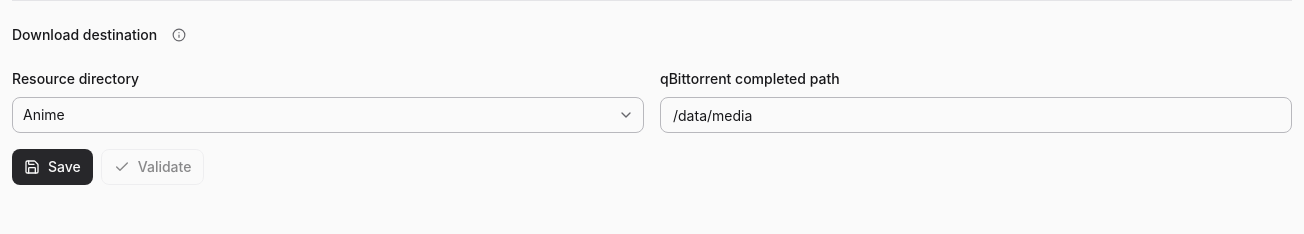
Scenario: destination settings separate saving from validation and do not start downloads
The width and height of the screenshot is (1304, 234).
Expected: the field labelled "qBittorrent completed path" holds "/data/media", left=660, top=97, right=1292, bottom=133
Click the button with aria-label "Save destination". click: (52, 167)
box: left=12, top=149, right=93, bottom=185
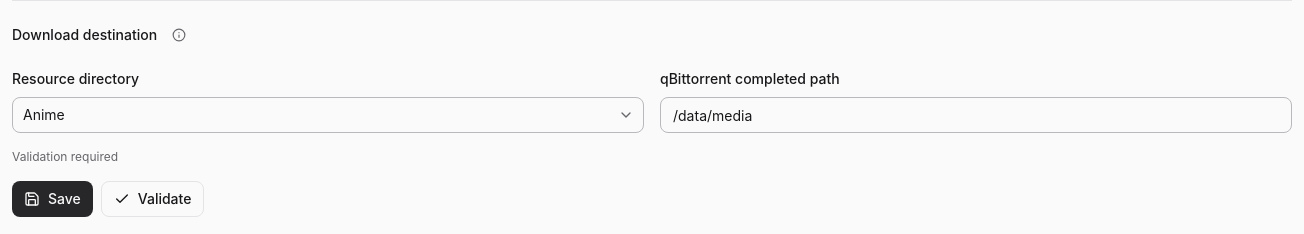
Expected: the field labelled "qBittorrent completed path" is shown, left=660, top=97, right=1292, bottom=133
Expected: the text "Validation required" is shown, left=12, top=149, right=118, bottom=164
Click the button with aria-label "Validate destination". click: (153, 199)
box: left=101, top=181, right=204, bottom=217
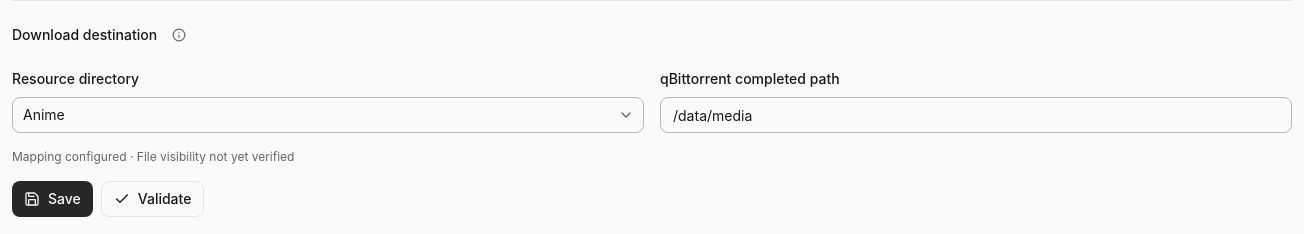
Expected: the text "Mapping configured · File visibility not yet verified" is shown, left=12, top=149, right=294, bottom=164
